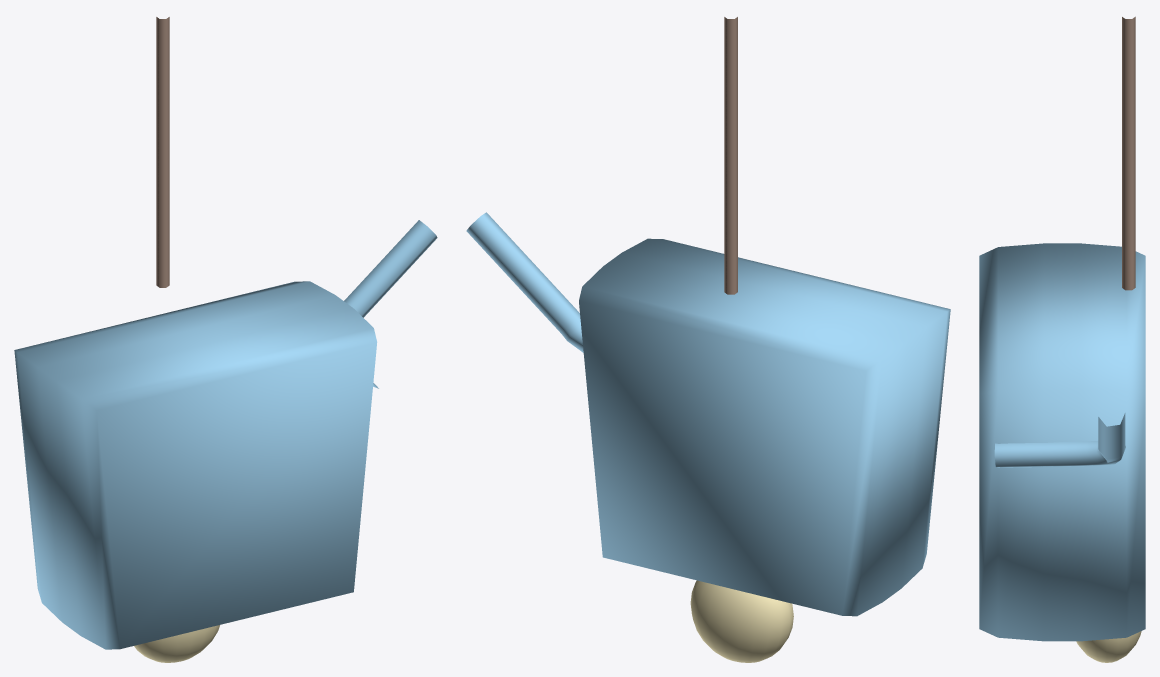
File: decor_3_classic.glb
3 views of the same model, side by side, from view 1: azimuth 30°, elevation 25°; view 2: azimuth 150°, elevation 25°; view 3: azimuth 270°, elevation 25° (orthographic). The views are drawn at different scales.
Visible parts, largest first — view 1: decor_3_classic; view 2: decor_3_classic; view 3: decor_3_classic.
Part boxes in pixels (x1=…): decor_3_classic: x1=14, y1=17, x2=437, y2=662; decor_3_classic: x1=466, y1=17, x2=950, y2=662; decor_3_classic: x1=979, y1=16, x2=1145, y2=662.
Size of the model in its own units: 7.06 by 10.4 by 2.45.
